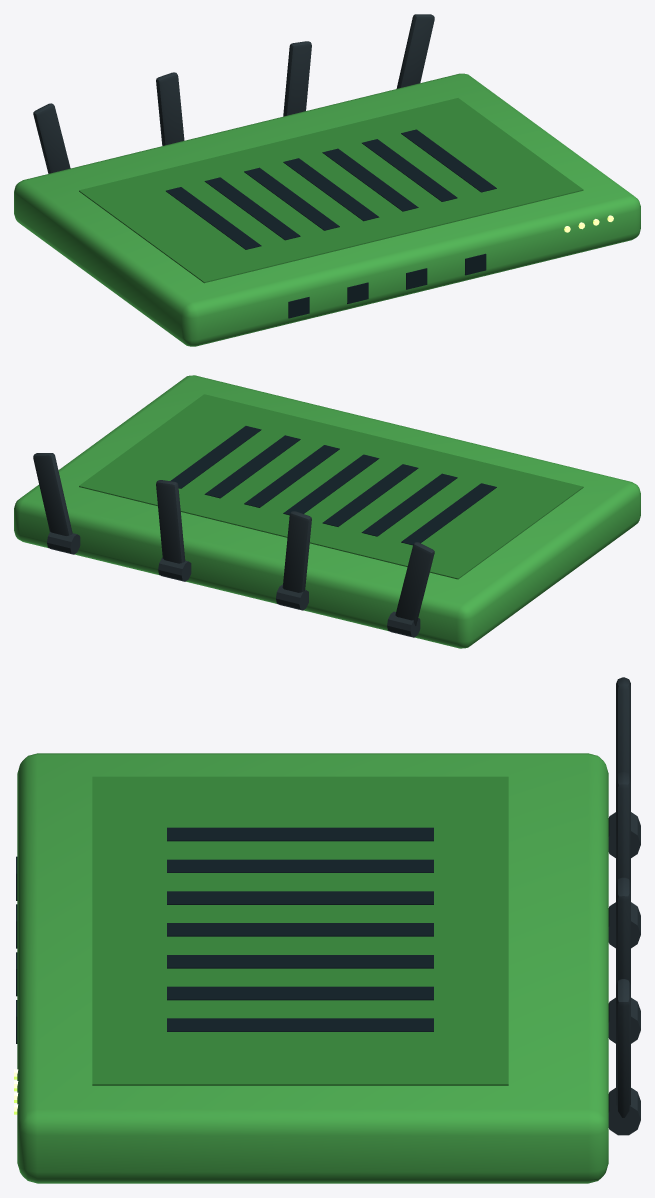
File: router.glb
The picture shows the model from 3 angles, top to bottom: view 1: azimuth 30°, elevation 25°; view 2: azimuth 150°, elevation 25°; view 3: azimuth 270°, elevation 25°; orthographic projection. The views are drawn at different scales.
Visible parts, largest first — view 1: router; view 2: router; view 3: router.
Boxes of the visible parts, left/top/right/bottom form: router: left=14, top=14, right=640, bottom=346; router: left=14, top=375, right=640, bottom=648; router: left=14, top=677, right=640, bottom=1183.
Size of the model in its own units: 0.35 by 0.08 by 0.25.
